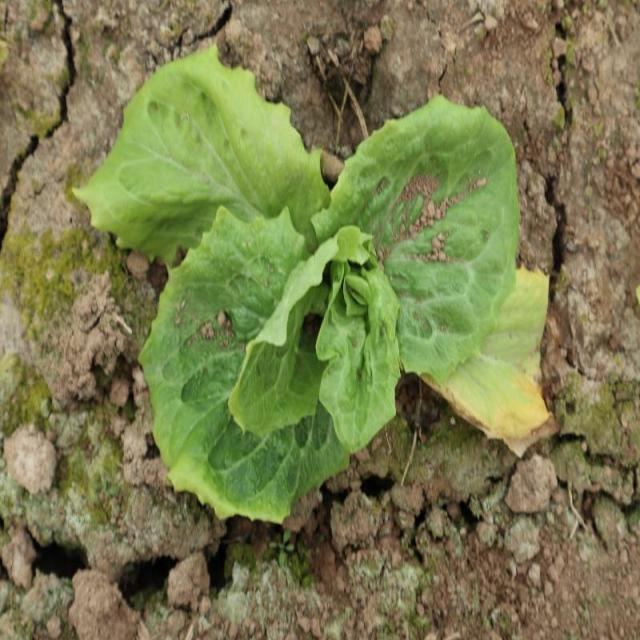crop: (71, 47, 554, 524)
